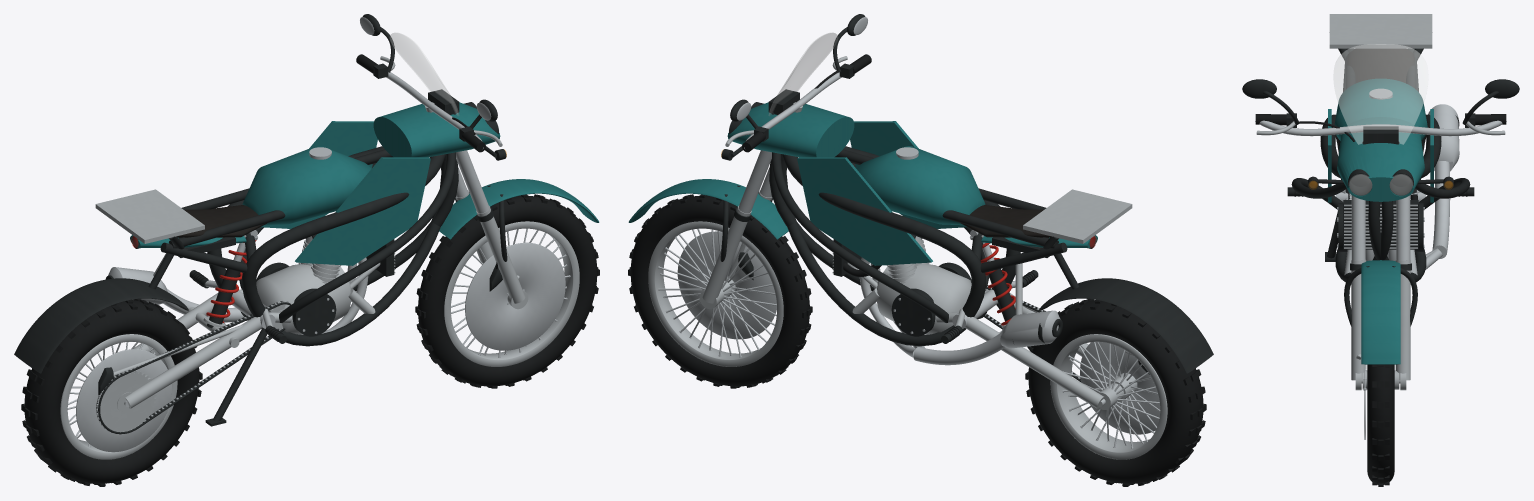
Rendered from adventure-motorcycle.glb.
3 views of the same model, side by side, from view 1: azimuth 30°, elevation 25°; view 2: azimuth 150°, elevation 25°; view 3: azimuth 270°, elevation 25° (orthographic). The views are drawn at different scales.
Visible parts, largest first — view 1: Rear rounded tyre carcass, Front rounded tyre carcass, Front finite brake rotor, Layered adventure tank shroud -1, Original sculpted fuel tank, Finite rear wheel arch, Original adventure nose cowl with open optical chambers, Rear finite brake rotor, Front turned rim and bead seats, Main triangulated frame -1, Finite rear luggage rack, Cast engine crankcase (+20 smaller); view 2: Rear rounded tyre carcass, Front rounded tyre carcass, Layered adventure tank shroud 1, Original sculpted fuel tank, Front finite brake rotor, Finite rear wheel arch, Rear turned rim and bead seats, Front turned rim and bead seats, Original adventure nose cowl with open optical chambers, Main triangulated frame 1, Finite rear luggage rack, Rear finite brake rotor (+18 smaller); view 3: Finite curved windscreen, Original adventure nose cowl with open optical chambers, Finite formed front mudguard, Finite rear luggage rack, Original sculpted fuel tank, Front rounded tyre carcass, Closed contoured rider and pillion saddle, Bent continuous handlebar, Fork lower slider 1, Fork lower slider -1, Exhaust collector and connecting pipe, Closed tapered exhaust silencer (+20 smaller).
Boxes of the visible parts, box(x1,y1,x2,y2) form: Rear rounded tyre carcass: box(24, 300, 199, 483); Front rounded tyre carcass: box(418, 196, 597, 386); Front finite brake rotor: box(465, 242, 565, 350); Layered adventure tank shroud -1: box(295, 157, 430, 265); Original sculpted fuel tank: box(242, 146, 370, 225); Finite rear wheel arch: box(14, 278, 188, 373); Original adventure nose cowl with open optical chambers: box(373, 102, 500, 157); Rear finite brake rotor: box(76, 349, 171, 452); Front turned rim and bead seats: box(444, 221, 579, 366); Main triangulated frame -1: box(242, 154, 445, 317); Finite rear luggage rack: box(95, 189, 204, 243); Cast engine crankcase: box(256, 264, 351, 334); Rear rounded tyre carcass: box(1028, 300, 1203, 483); Front rounded tyre carcass: box(630, 196, 809, 386); Layered adventure tank shroud 1: box(797, 157, 932, 265); Original sculpted fuel tank: box(857, 146, 985, 225); Front finite brake rotor: box(677, 231, 776, 339); Finite rear wheel arch: box(1039, 278, 1213, 373); Rear turned rim and bead seats: box(1050, 334, 1167, 459); Front turned rim and bead seats: box(648, 221, 783, 366); Original adventure nose cowl with open optical chambers: box(727, 102, 854, 157); Main triangulated frame 1: box(782, 154, 985, 317); Finite rear luggage rack: box(1023, 189, 1132, 243); Rear finite brake rotor: box(1080, 342, 1160, 434); Finite curved windscreen: box(1333, 44, 1428, 144); Original adventure nose cowl with open optical chambers: box(1337, 117, 1424, 201); Finite formed front mudguard: box(1361, 260, 1400, 364); Finite rear luggage rack: box(1329, 14, 1432, 48); Original sculpted fuel tank: box(1334, 78, 1427, 140); Front rounded tyre carcass: box(1367, 364, 1394, 484); Closed contoured rider and pillion saddle: box(1347, 48, 1414, 82); Bent continuous handlebar: box(1255, 120, 1506, 136); Fork lower slider 1: box(1395, 260, 1410, 380); Fork lower slider -1: box(1351, 260, 1366, 380); Exhaust collector and connecting pipe: box(1432, 161, 1450, 258); Closed tapered exhaust silencer: box(1426, 104, 1459, 171).
Bounding box in the file's own units: 2.28 × 1.4 × 0.922.
11 materials, 11 textured.
